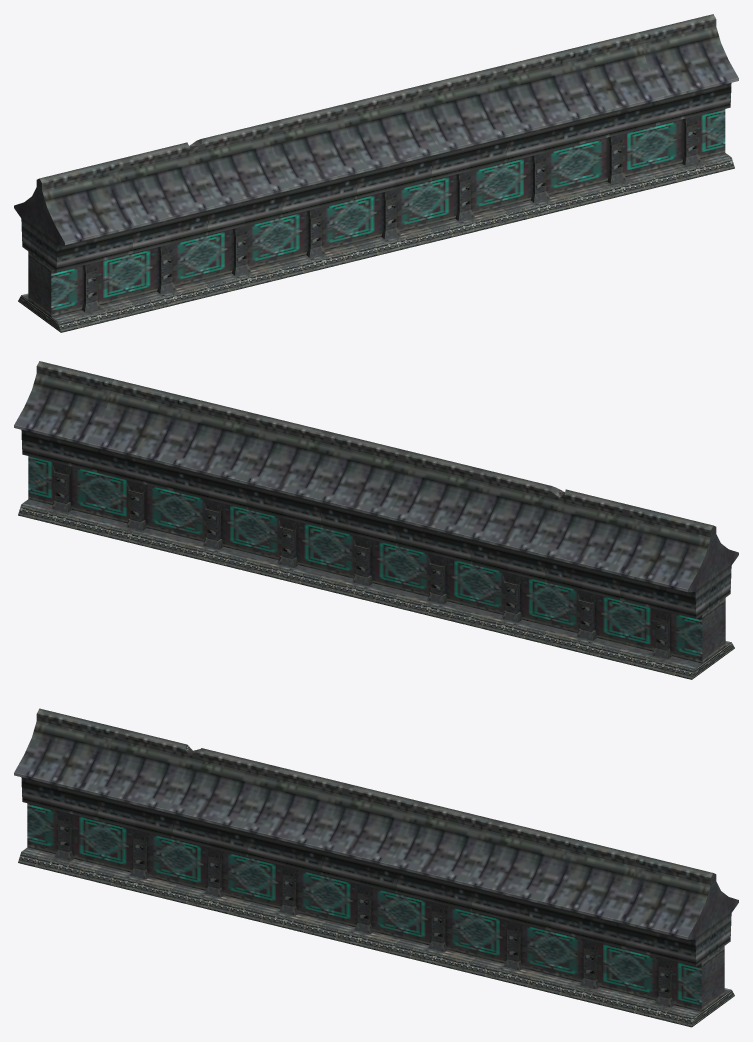
Rendered from 5st_wall_001.fbx.
3 renders of one model, top to bottom at view 1: azimuth 30°, elevation 25°; view 2: azimuth 150°, elevation 25°; view 3: azimuth 330°, elevation 25°, orthographic.
Parts seen in each view (by area): view 1: 5st_wall_001; view 2: 5st_wall_001; view 3: 5st_wall_001.
Part boxes in pixels (bbox=[...]): 5st_wall_001: bbox=[14, 14, 738, 332]; 5st_wall_001: bbox=[14, 361, 738, 679]; 5st_wall_001: bbox=[14, 708, 738, 1027].
Size of the model in its own units: 12.58 by 2.47 by 1.65.
